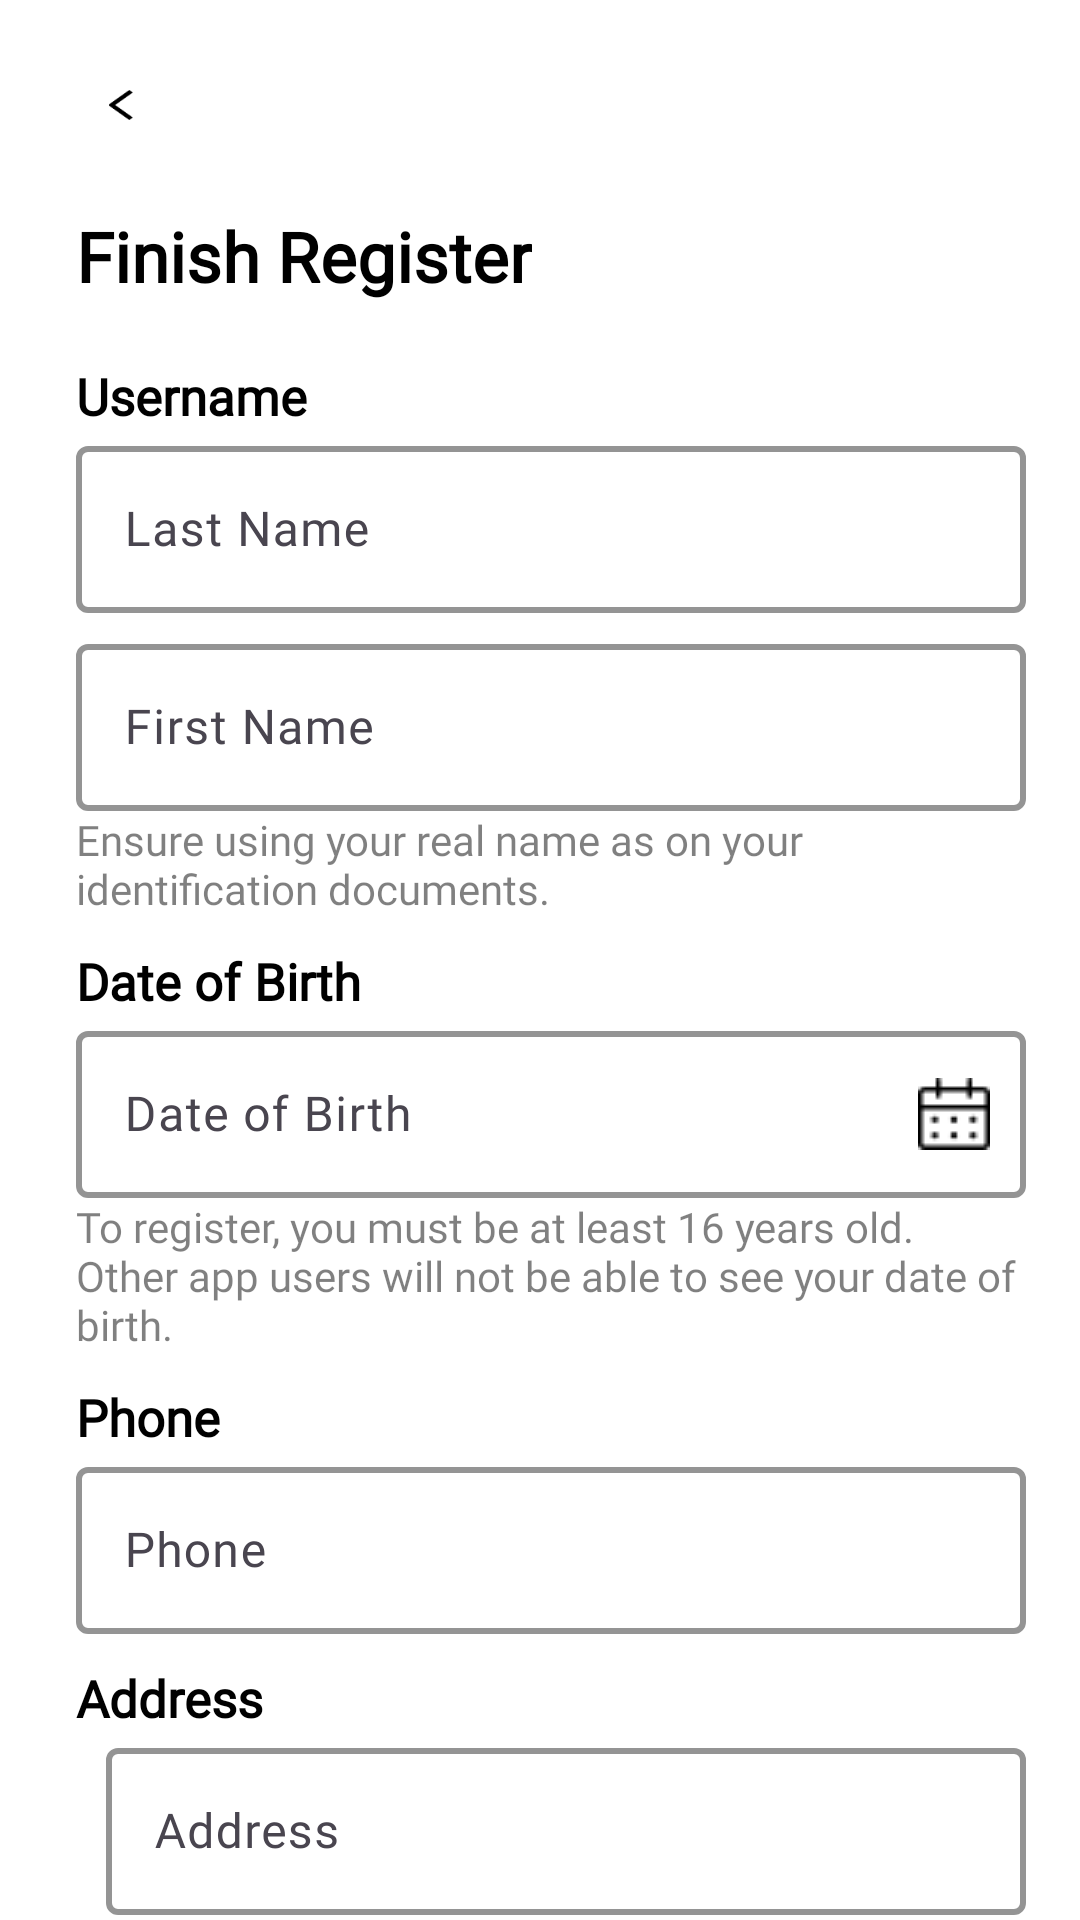

Locate icon controls on the screen. Image size 1080x1920, boxes as bbox=(x1, y1, x2, y2).
Go back: bbox=(109, 90, 133, 120)
